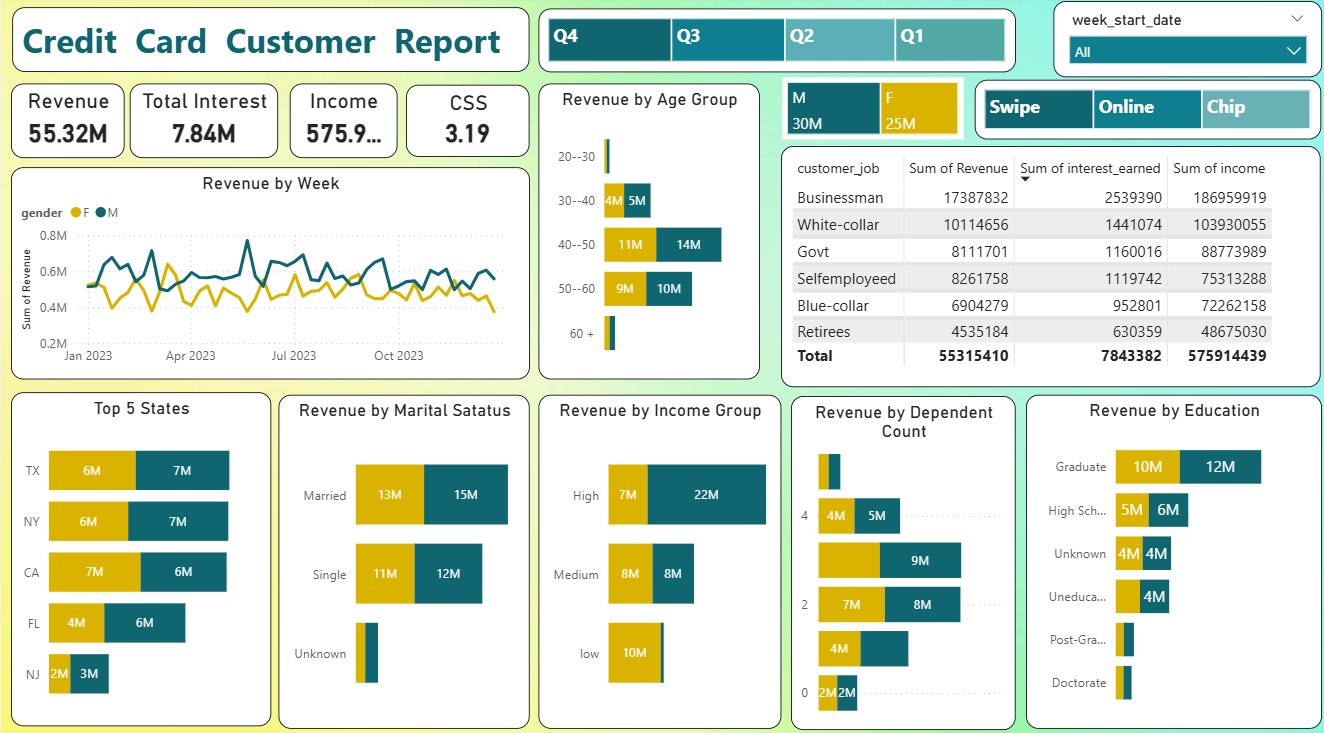

This screenshot's page, from the dashboard's own definition file:
{"tool":"powerbi","page":{"name":"CC_Customer","canvas":[1280,720],"ordinal":2},"visuals":[{"type":"textbox","box":[10.9,10.9,499.5,62.7],"z":0},{"type":"barChart","title":"Revenue by Income Group","fields":{"Y":["Sum(public cc_detail.Revenue)"],"Category":["public cust_detail.IncomeGroup"],"Series":["public cust_detail.gender"]},"box":[518.8,384.9,234,322.1],"z":1000},{"type":"card","title":"Revenue","fields":{"Values":["Sum(public cc_detail.Revenue)"]},"box":[9.7,84.5,109.8,72.4],"z":2000},{"type":"card","title":"Income","fields":{"Values":["Sum(public cust_detail.income)"]},"box":[278.7,84.5,103.8,72.4],"z":3000},{"type":"card","title":"Total Interest","fields":{"Values":["Sum(public cc_detail.interest_earned)"]},"box":[124.3,84.5,143.6,72.4],"z":4000},{"type":"card","title":"CSS","fields":{"Values":["Avg(public cust_detail.cust_satisfaction_score)"]},"box":[390.9,85.7,119.4,70],"z":5000},{"type":"slicer","fields":{"Values":["public cc_detail.week_start_date"]},"box":[1015.8,4.8,259.4,73.6],"z":6000},{"type":"treemap","fields":{"Group":["public cc_detail.qtr"],"Values":["Avg(public cc_detail.client_num)"]},"box":[518.8,12.1,460.9,61.5],"z":7000},{"type":"lineChart","title":"Revenue by Week","fields":{"Y":["Sum(public cc_detail.Revenue)"],"Series":["public cust_detail.gender"],"Category":["public cc_detail.week_start_date.Variation.Date Hierarchy.Year","public cc_detail.week_start_date.Variation.Date Hierarchy.Month","public cc_detail.week_start_date.Variation.Date Hierarchy.Day"]},"box":[9.7,165.3,500.7,205.1],"z":8000},{"type":"treemap","fields":{"Group":["public cust_detail.gender"],"Values":["Sum(public cc_detail.Revenue)"]},"box":[754,78.4,174.9,60.3],"z":9000},{"type":"barChart","title":"Revenue by Age Group","fields":{"Y":["Sum(public cc_detail.Revenue)"],"Category":["public cust_detail.AgeGroup"],"Series":["public cust_detail.gender"]},"box":[518.8,84.5,213.5,285.9],"z":10000},{"type":"barChart","title":"Revenue by Dependent Count","fields":{"Y":["Sum(public cc_detail.Revenue)"],"Category":["public cust_detail.dependent_count"],"Series":["public cust_detail.gender"]},"box":[762.5,386.1,217.2,322.1],"z":11000},{"type":"barChart","title":"Revenue by Education","fields":{"Y":["Sum(public cc_detail.Revenue)"],"Category":["public cust_detail.education_level"],"Series":["public cust_detail.gender"]},"box":[989.3,384.9,285.9,322.1],"z":12000},{"type":"barChart","title":"Top 5 States","fields":{"Y":["Sum(public cc_detail.Revenue)"],"Category":["public cust_detail.state_cd"],"Series":["public cust_detail.gender"]},"box":[9.7,382.4,250.9,322.1],"z":13000},{"type":"tableEx","fields":{"Values":["public cust_detail.customer_job","Sum(public cc_detail.Revenue)","Sum(public cc_detail.interest_earned)","Sum(public cust_detail.income)"]},"box":[752.8,144.8,521.2,232.8],"z":14000},{"type":"barChart","title":"Revenue by Marital Satatus","fields":{"Y":["Sum(public cc_detail.Revenue)"],"Category":["public cust_detail.marital_status"],"Series":["public cust_detail.gender"]},"box":[267.8,384.9,242.5,322.1],"z":15000},{"type":"treemap","fields":{"Values":["Avg(public cc_detail.client_num)"],"Group":["public cc_detail.use_chip"]},"box":[939.8,80.8,334.2,57.9],"z":16000}]}

Visuals, with their boxes in screenshot pixels (x1, y1, x2, y2), scaled from the page's 1280x720 canvas onto the 1324x733 screenshot:
textbox: [x1=11, y1=11, x2=528, y2=75]
"Revenue by Income Group" barChart: [x1=537, y1=392, x2=779, y2=720]
"Revenue" card: [x1=10, y1=86, x2=124, y2=160]
"Income" card: [x1=288, y1=86, x2=396, y2=160]
"Total Interest" card: [x1=129, y1=86, x2=277, y2=160]
"CSS" card: [x1=404, y1=87, x2=528, y2=159]
slicer - public cc_detail.week_start_date: [x1=1051, y1=5, x2=1319, y2=80]
treemap - public cc_detail.qtr x Avg(public cc_detail.client_num): [x1=537, y1=12, x2=1013, y2=75]
"Revenue by Week" lineChart: [x1=10, y1=168, x2=528, y2=377]
treemap - public cust_detail.gender x Sum(public cc_detail.Revenue): [x1=780, y1=80, x2=961, y2=141]
"Revenue by Age Group" barChart: [x1=537, y1=86, x2=757, y2=377]
"Revenue by Dependent Count" barChart: [x1=789, y1=393, x2=1013, y2=721]
"Revenue by Education" barChart: [x1=1023, y1=392, x2=1319, y2=720]
"Top 5 States" barChart: [x1=10, y1=389, x2=270, y2=717]
tableEx - public cust_detail.customer_job x Sum(public cc_detail.Revenue): [x1=779, y1=147, x2=1318, y2=384]
"Revenue by Marital Satatus" barChart: [x1=277, y1=392, x2=528, y2=720]
treemap - Avg(public cc_detail.client_num) x public cc_detail.use_chip: [x1=972, y1=82, x2=1318, y2=141]
